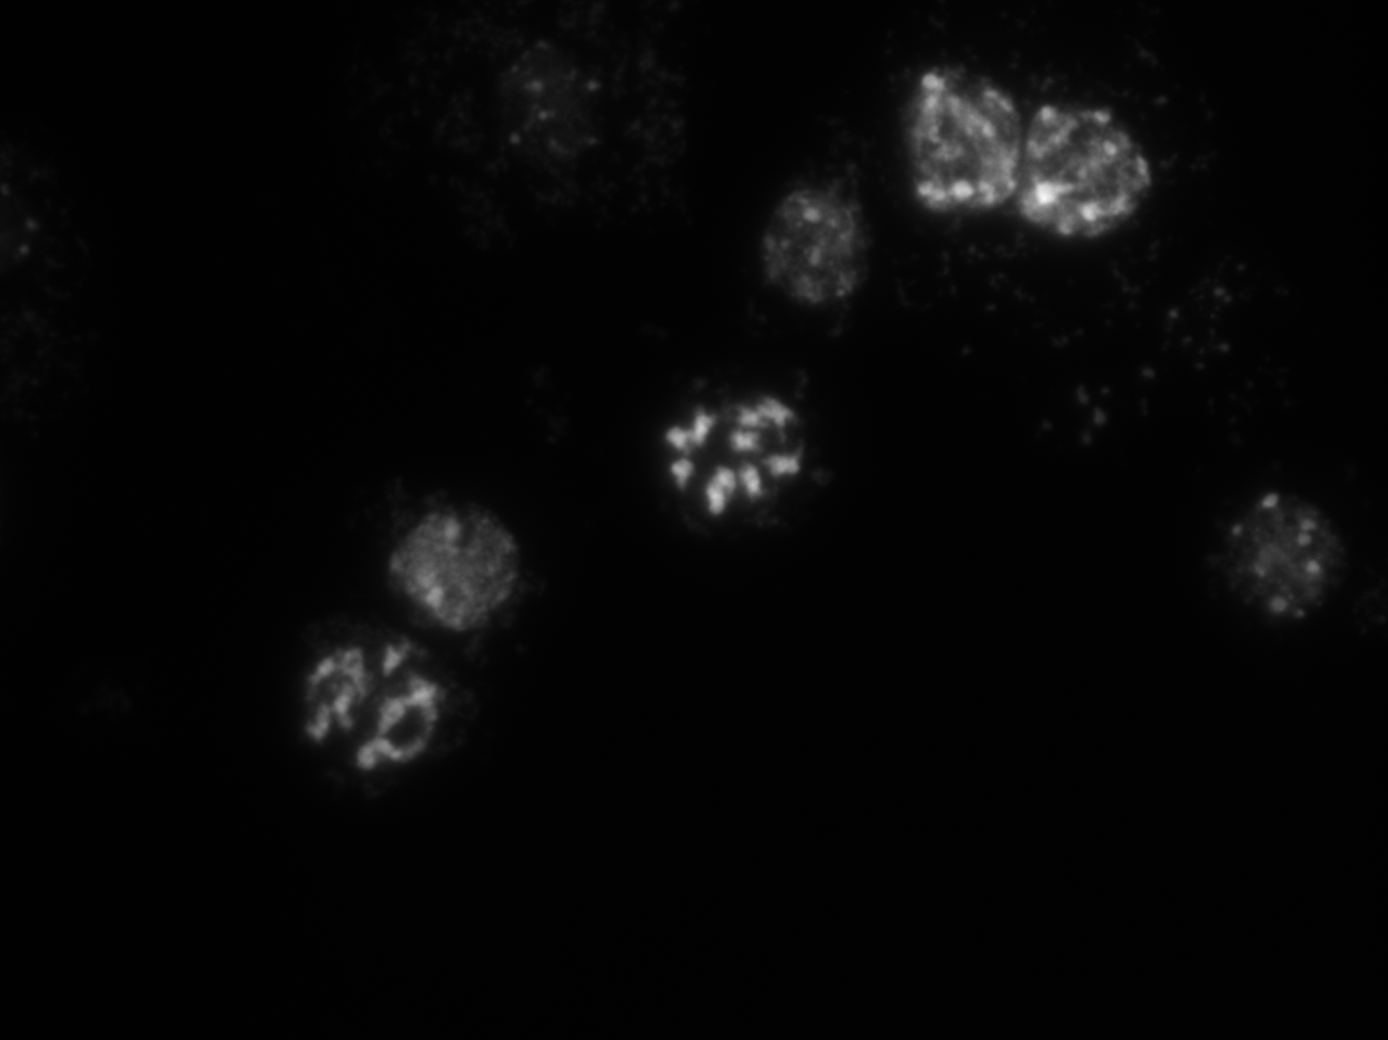Chromosomes: (632, 356, 847, 558), (274, 611, 472, 804)
Others: (889, 36, 1131, 247), (1178, 450, 1367, 657), (370, 487, 551, 654), (747, 154, 883, 344)
